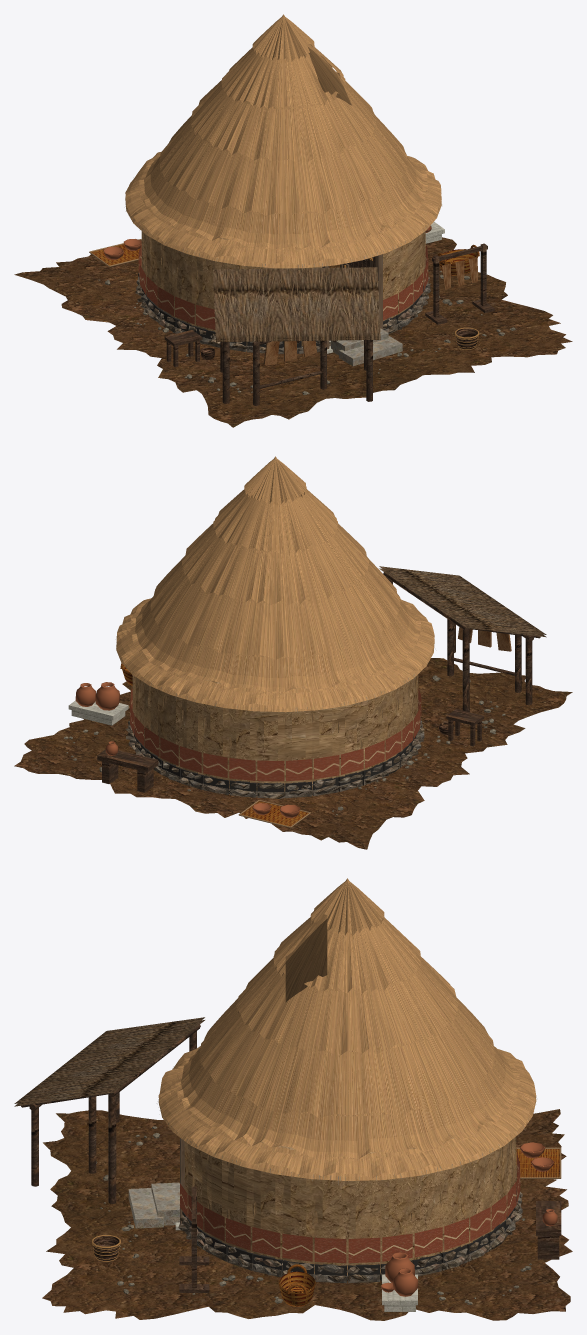
Rendered from hunter@1.glb.
3 renders of one model, top to bottom at view 1: azimuth 30°, elevation 25°; view 2: azimuth 150°, elevation 25°; view 3: azimuth 270°, elevation 25°, orthographic. The views are drawn at different scales.
Visible parts, largest first — view 1: part_20, part_1, part_16, part_5, part_8, part_23, part_4, part_11, part_24, part_18, part_22, part_2 (+1 smaller); view 2: part_20, part_1, part_5, part_23, part_8, part_16, part_4, part_22, part_17, part_7, part_18, part_11 (+1 smaller); view 3: part_20, part_1, part_5, part_23, part_16, part_8, part_4, part_24, part_22, part_17, part_18, part_7 (+1 smaller).
Part boxes in pixels (x1,y1,x2,y2): part_20: (125,14,441,268); part_1: (14,237,572,427); part_16: (213,267,380,342); part_5: (141,231,425,346); part_8: (164,243,494,405); part_23: (138,245,428,329); part_4: (135,266,430,353); part_11: (263,257,477,365); part_24: (331,328,402,366); part_18: (91,240,479,275); part_22: (141,285,426,347); part_2: (98,261,515,394); part_20: (116,456,434,712); part_1: (14,658,572,849); part_5: (132,674,418,791); part_23: (130,688,421,781); part_8: (97,571,540,792); part_16: (379,566,546,637); part_4: (125,718,424,798); part_22: (134,729,418,795); part_17: (75,682,300,818); part_7: (68,700,128,725); part_18: (120,663,308,826); part_11: (458,627,511,651); part_20: (158,878,536,1180); part_1: (42,1109,572,1320); part_5: (184,1136,517,1275); part_23: (180,1152,520,1263); part_16: (14,1017,204,1106); part_8: (21,1024,561,1292); part_4: (178,1186,522,1283); part_24: (128,1182,179,1228); part_22: (182,1190,516,1282); part_17: (380,1142,557,1296); part_18: (278,1149,559,1306); part_7: (175,1222,417,1311).
Bounding box in the file's own units: 6.01 × 4.49 × 6.7.
25 materials, 16 textured.
